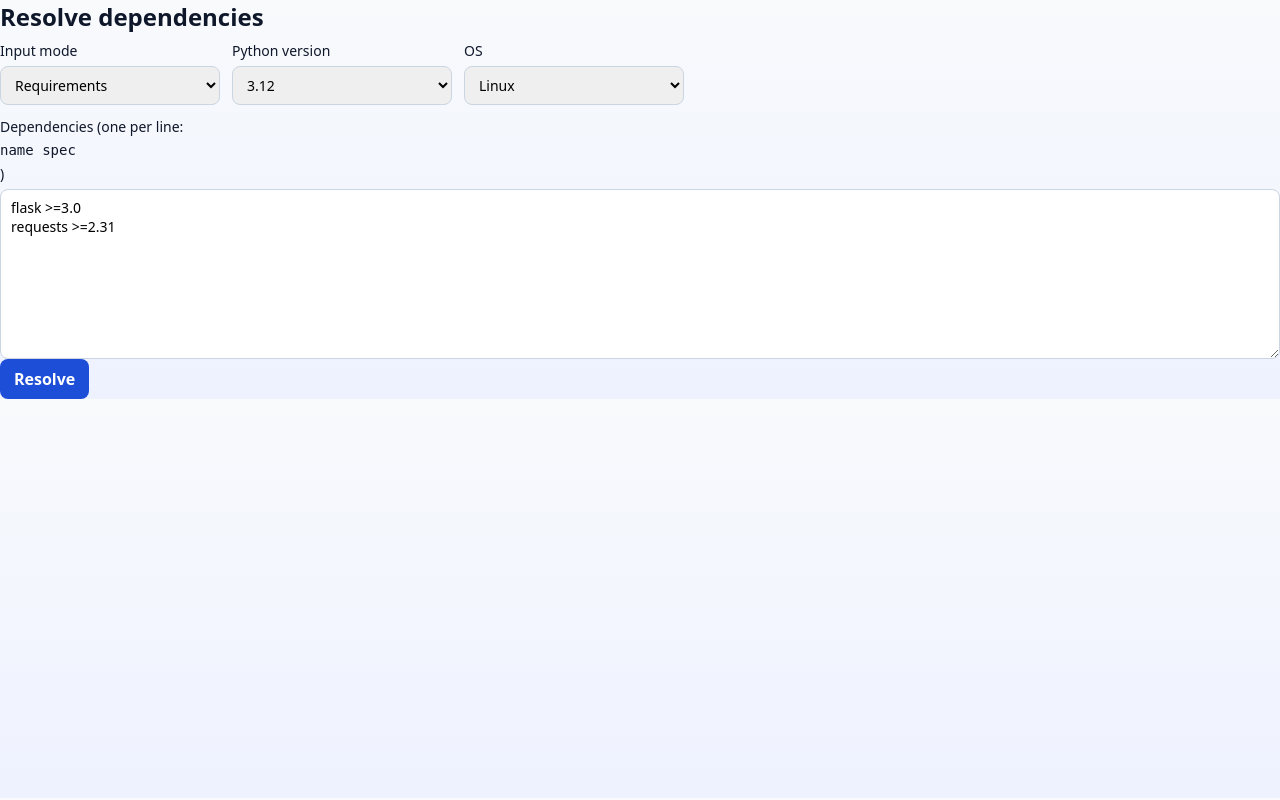
Scenario: ResolvePage › renders API error message
Click the button "Resolve".
click(45, 379)  # box x1=0 y1=359 x2=89 y2=399
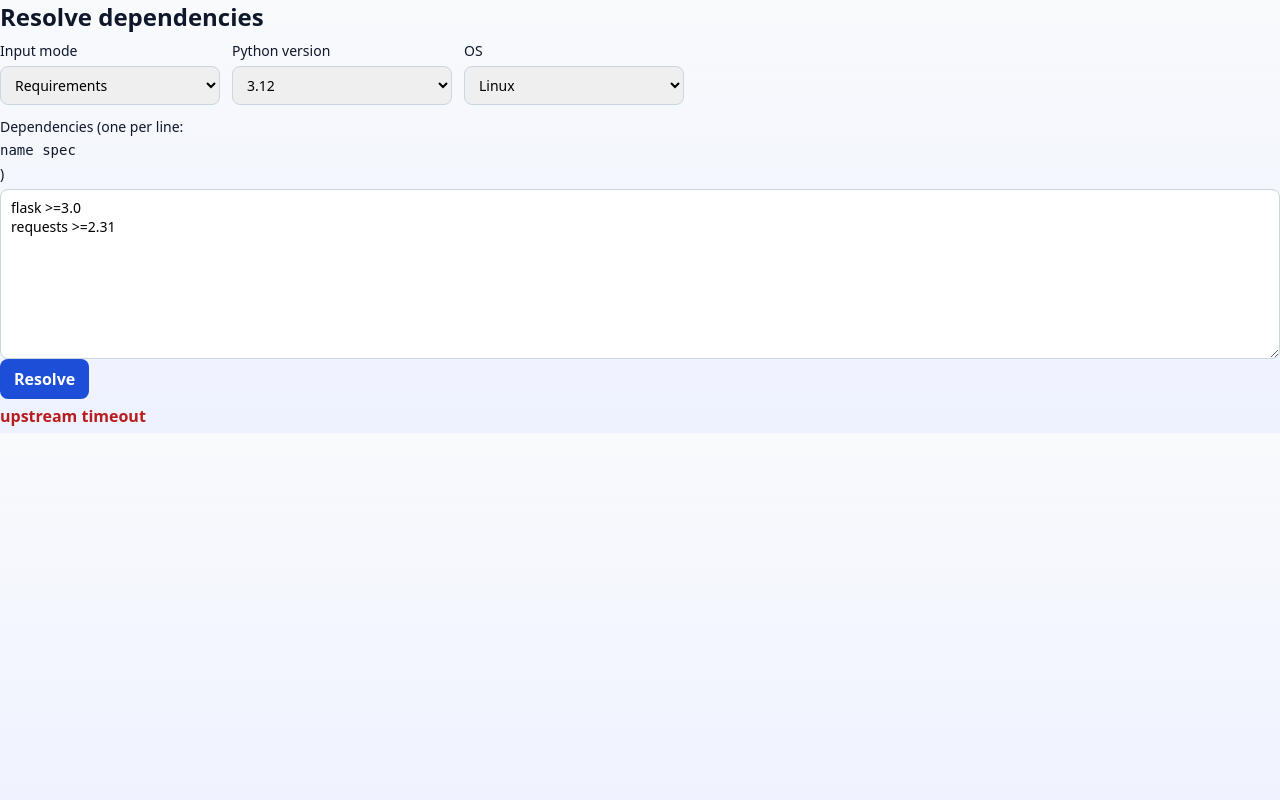
Result: the text "upstream timeout" is shown at x1=0 y1=405 x2=146 y2=427
